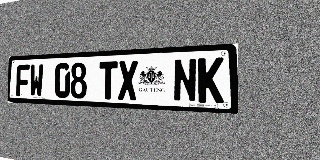0: (54, 63, 70, 98)
8: (70, 62, 87, 99)
F: (16, 64, 29, 97)
K: (198, 57, 224, 103)
N: (173, 58, 197, 102)
T: (99, 61, 118, 100)
W: (29, 64, 43, 97)
X: (118, 60, 138, 100)
